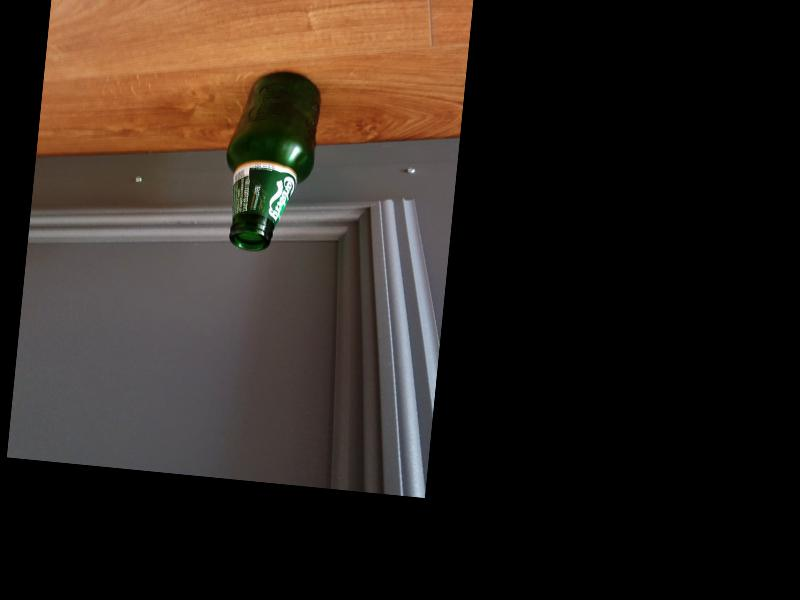Beer: (217, 66, 324, 255)
